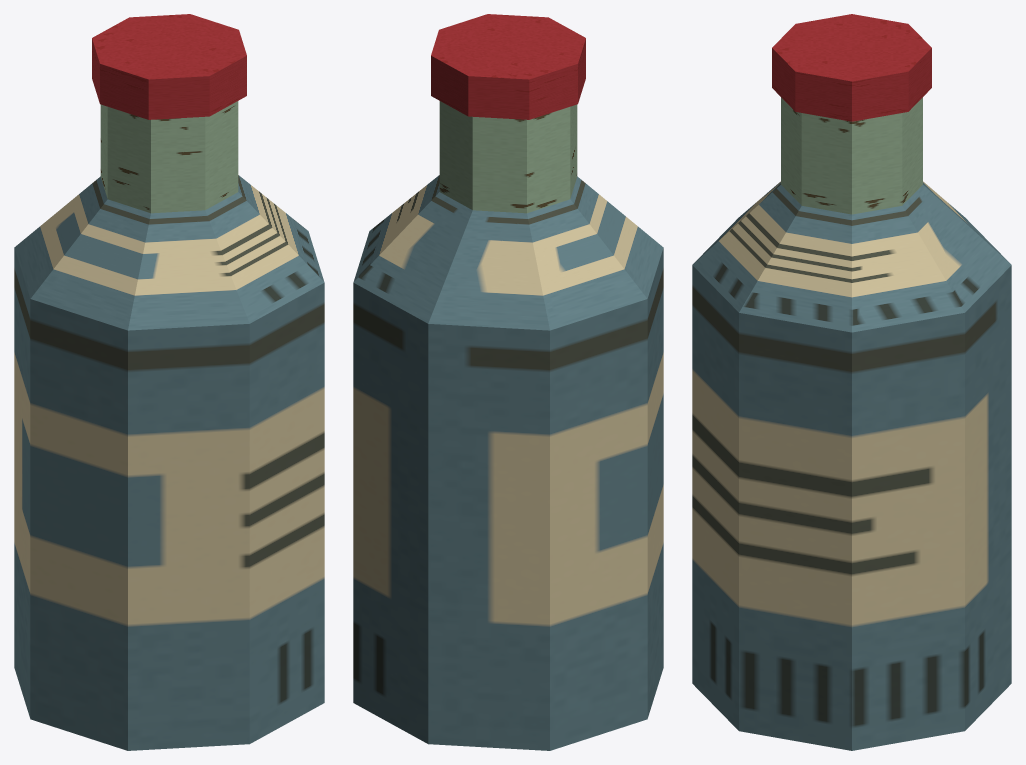
Rendered from WaterBottle.fbx.
3 renders of one model, left to right at view 1: azimuth 30°, elevation 25°; view 2: azimuth 150°, elevation 25°; view 3: azimuth 270°, elevation 25°, orthographic.
Visible parts, largest first — view 1: WaterBottle; view 2: WaterBottle; view 3: WaterBottle.
Part boxes in pixels (bbox=[...]): WaterBottle: bbox=[14, 14, 324, 750]; WaterBottle: bbox=[353, 14, 663, 750]; WaterBottle: bbox=[692, 14, 1011, 750].
Size of the model in its own units: 18 by 39.5 by 18.
